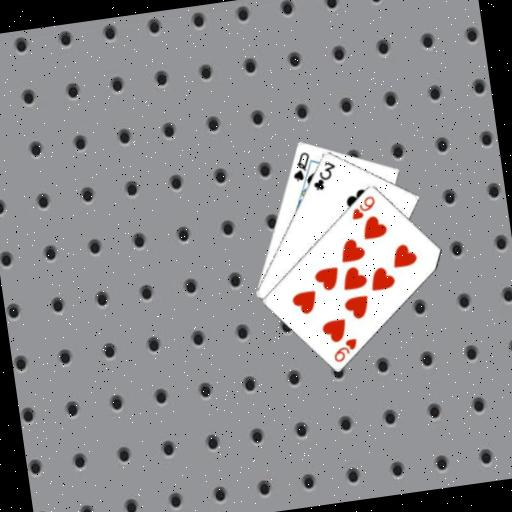3C: (307, 157, 340, 193)
9H: (346, 192, 379, 222), (329, 335, 361, 365)
QS: (287, 149, 315, 184)
